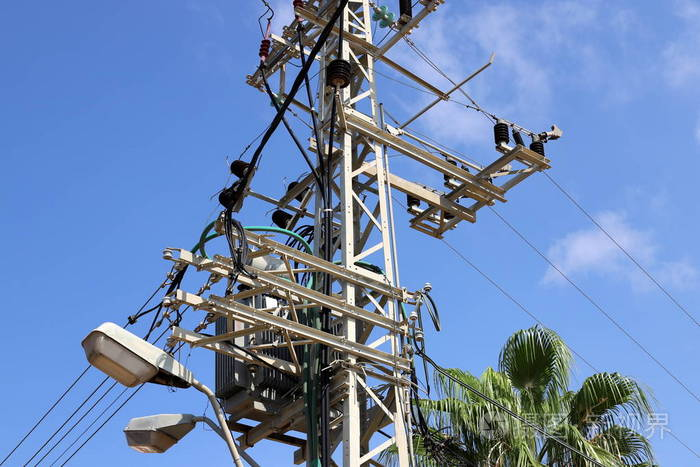insulator: (371, 4, 396, 27)
